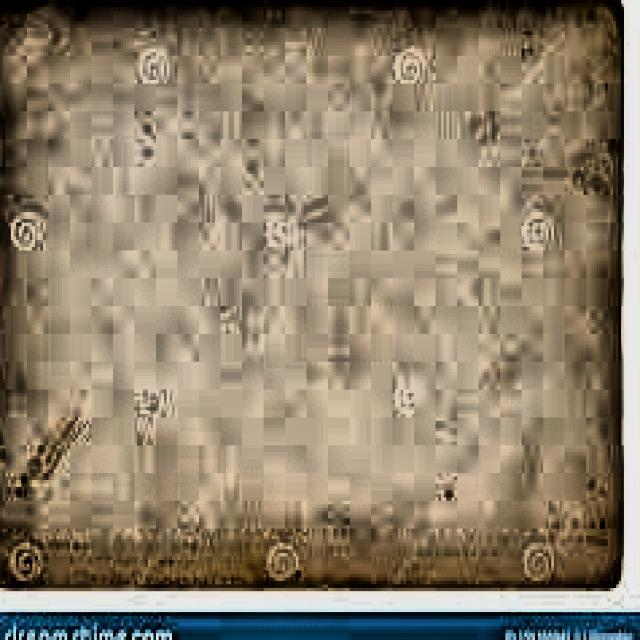cardboard: (0, 0, 624, 588)
